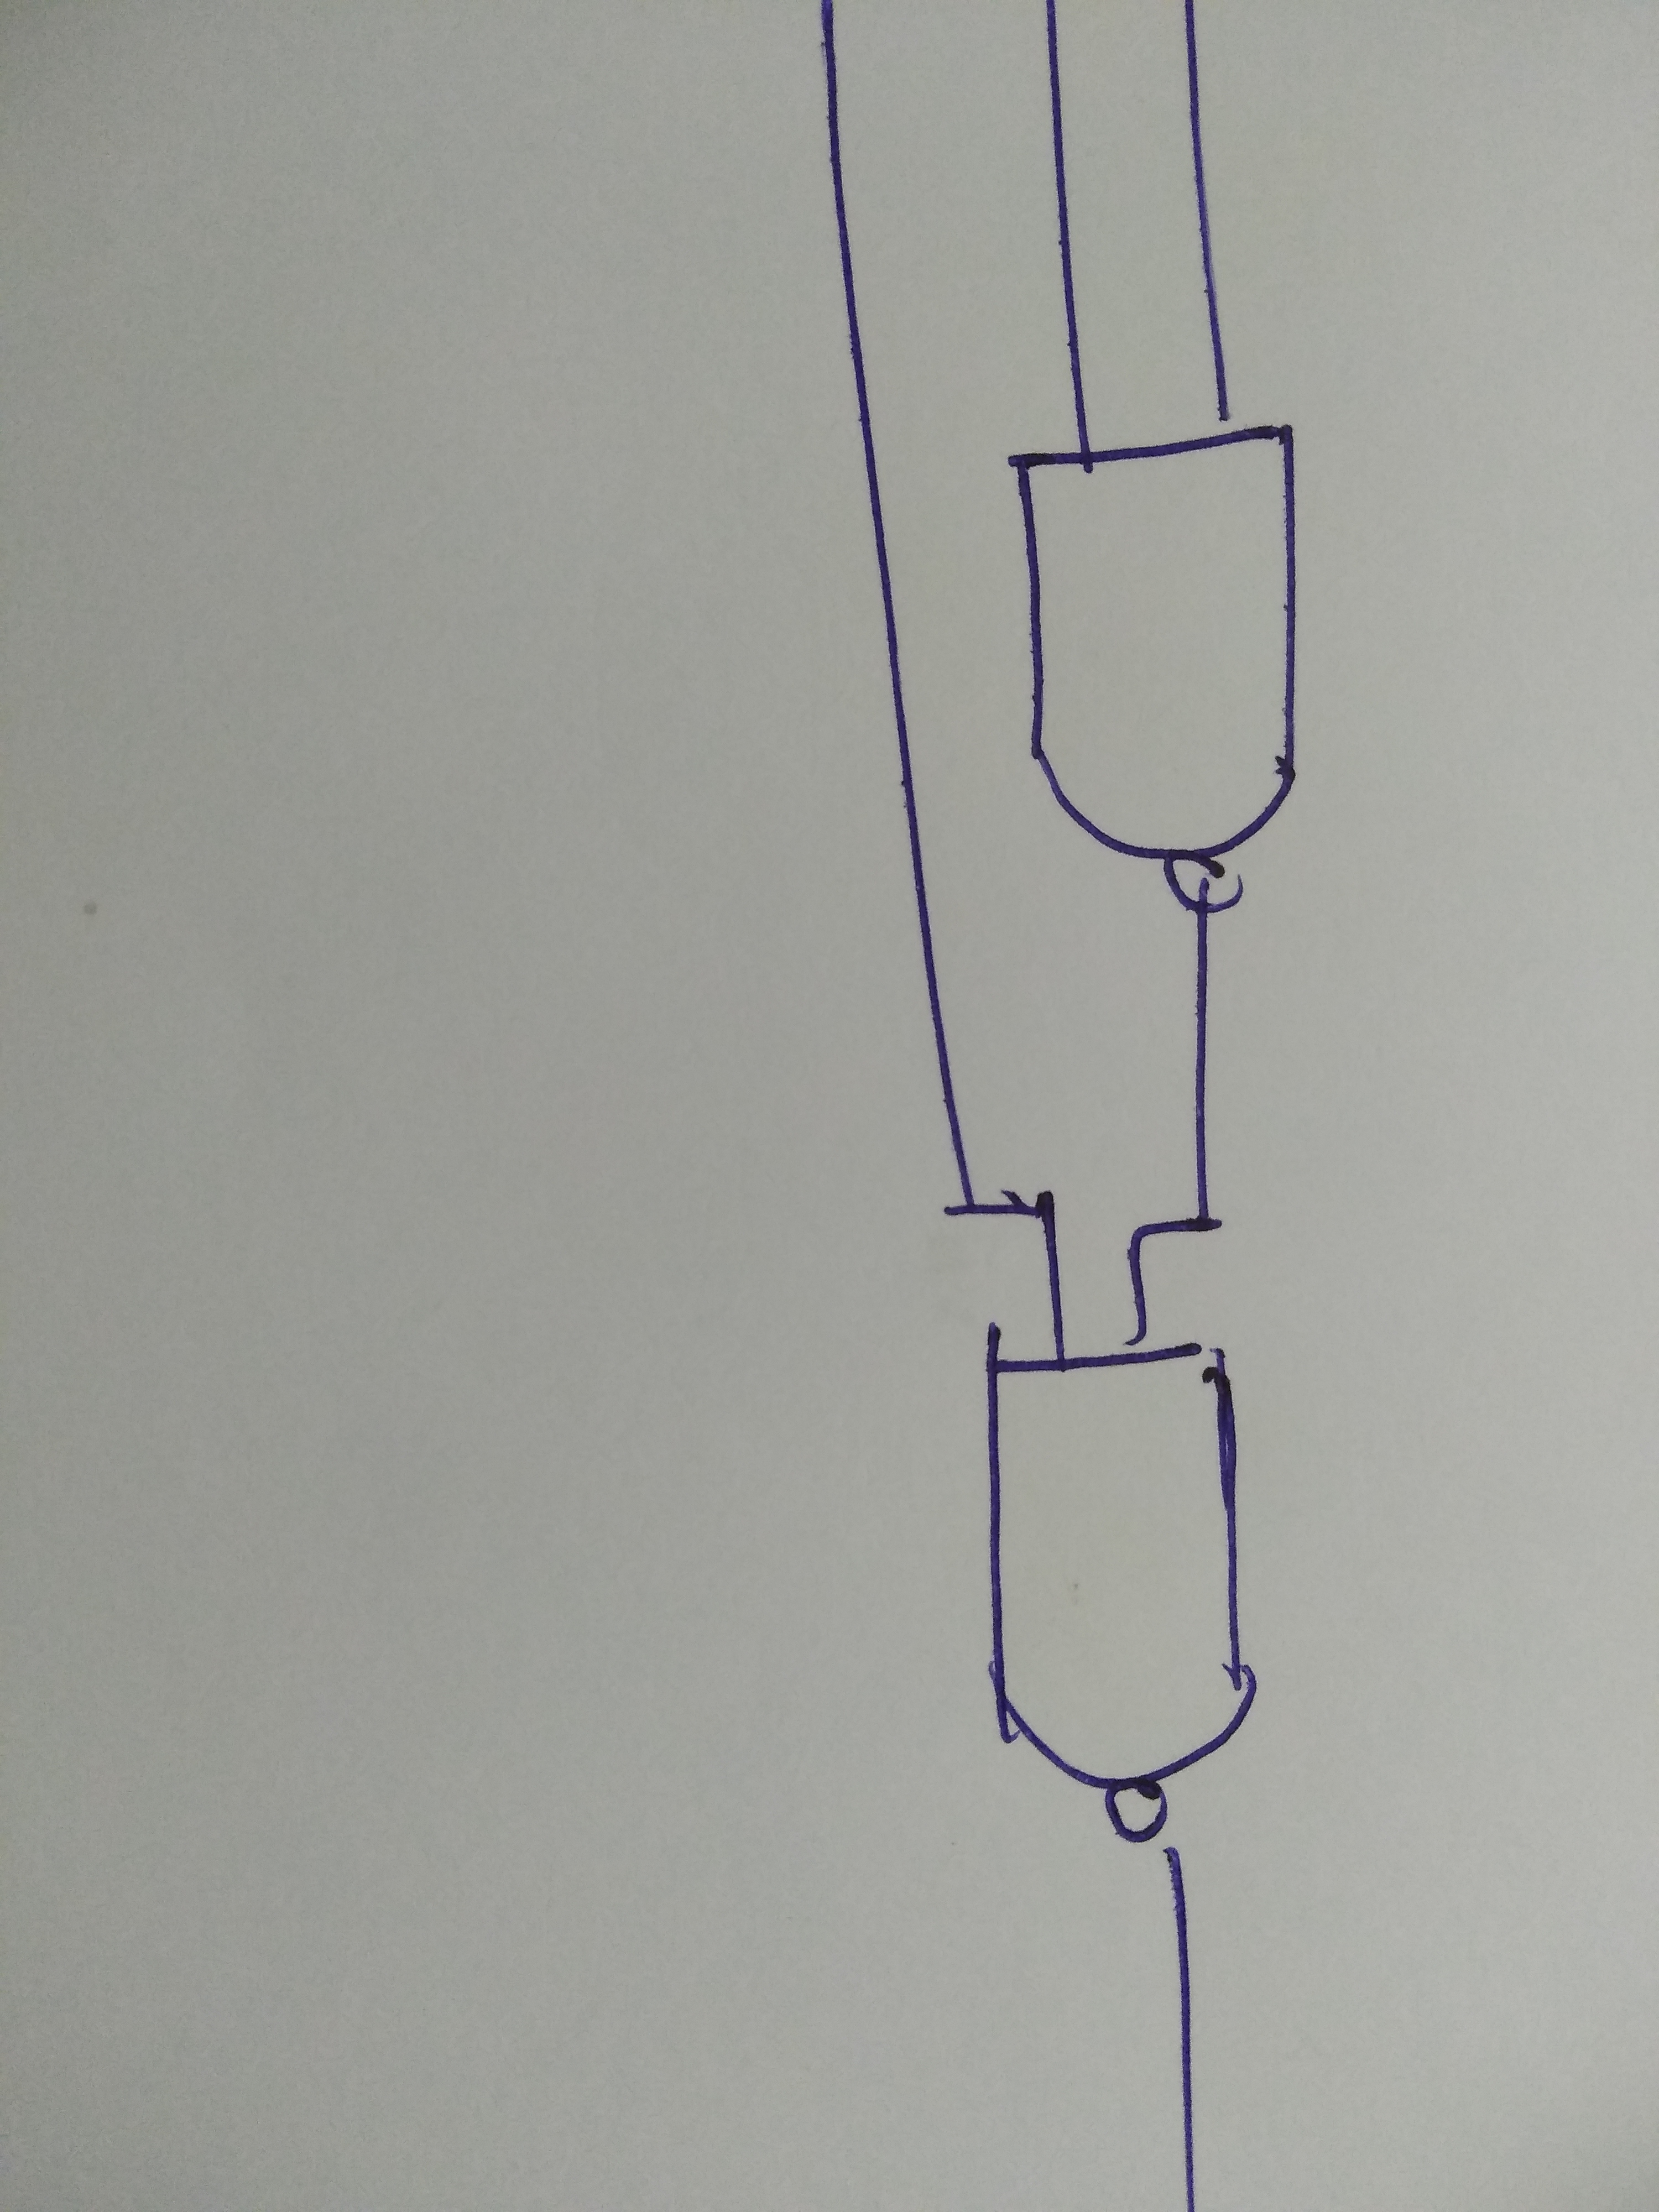nand: (931, 1287, 1337, 1898), (976, 348, 1382, 960)
